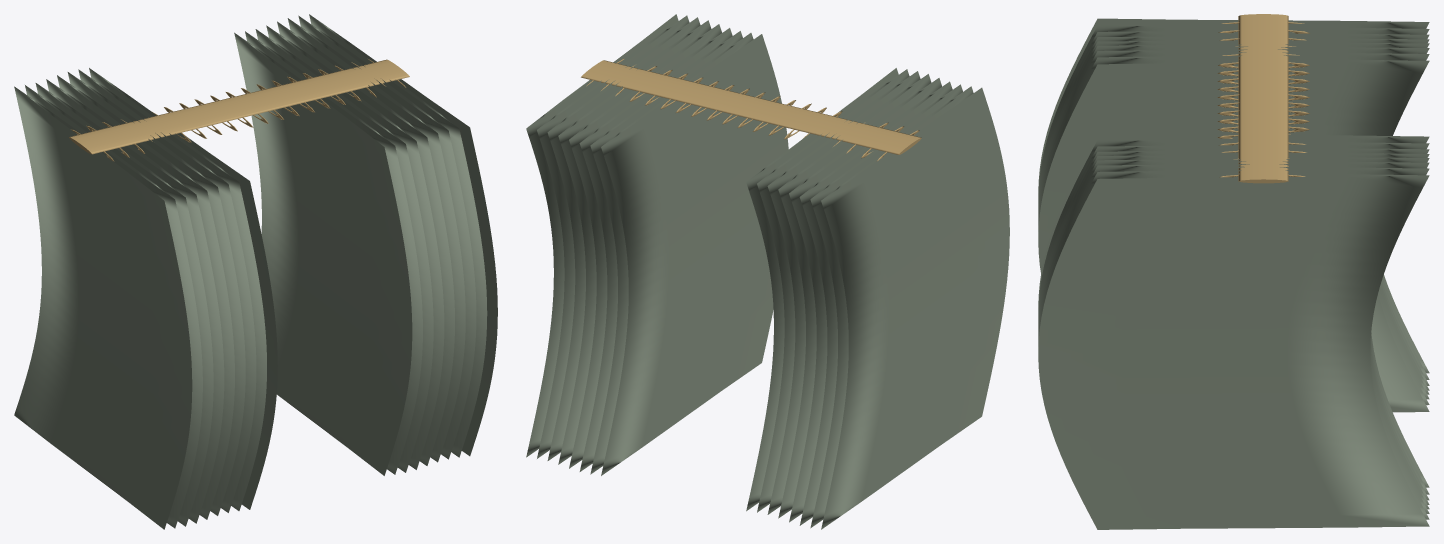
File: studio-curtain-velvet.glb
3 renders of one model, left to right at view 1: azimuth 30°, elevation 25°; view 2: azimuth 150°, elevation 25°; view 3: azimuth 270°, elevation 25°, orthographic. The views are drawn at different scales.
Parts seen in each view (by area): view 1: part (×2); view 2: part (×2); view 3: part (×2).
Boxes of the visible parts, box(x1,y1,x2,y2) form: part (×2): box(14, 14, 497, 529); part (×2): box(526, 14, 1009, 529); part (×2): box(1038, 14, 1429, 529).
Bounding box in the file's own units: 1 × 1 × 1.
